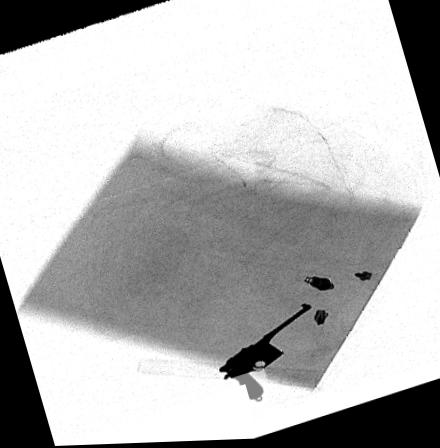Gun: (217, 306, 313, 402)
